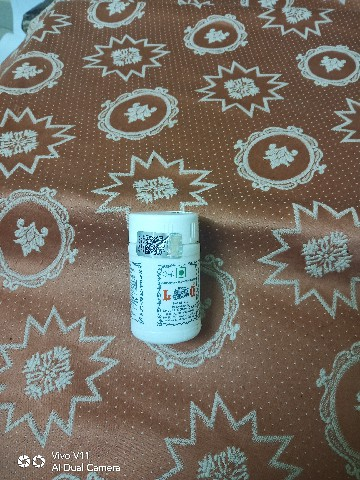lgasafoetidapowder small: (121, 204, 213, 348)
